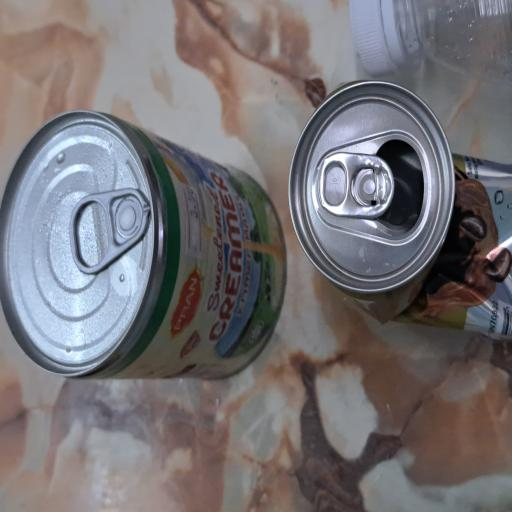can: (98, 0, 300, 383), (125, 385, 326, 512)
plastic bottle cap: (328, 468, 384, 512)
pop tab: (180, 92, 244, 201), (222, 427, 270, 512)
